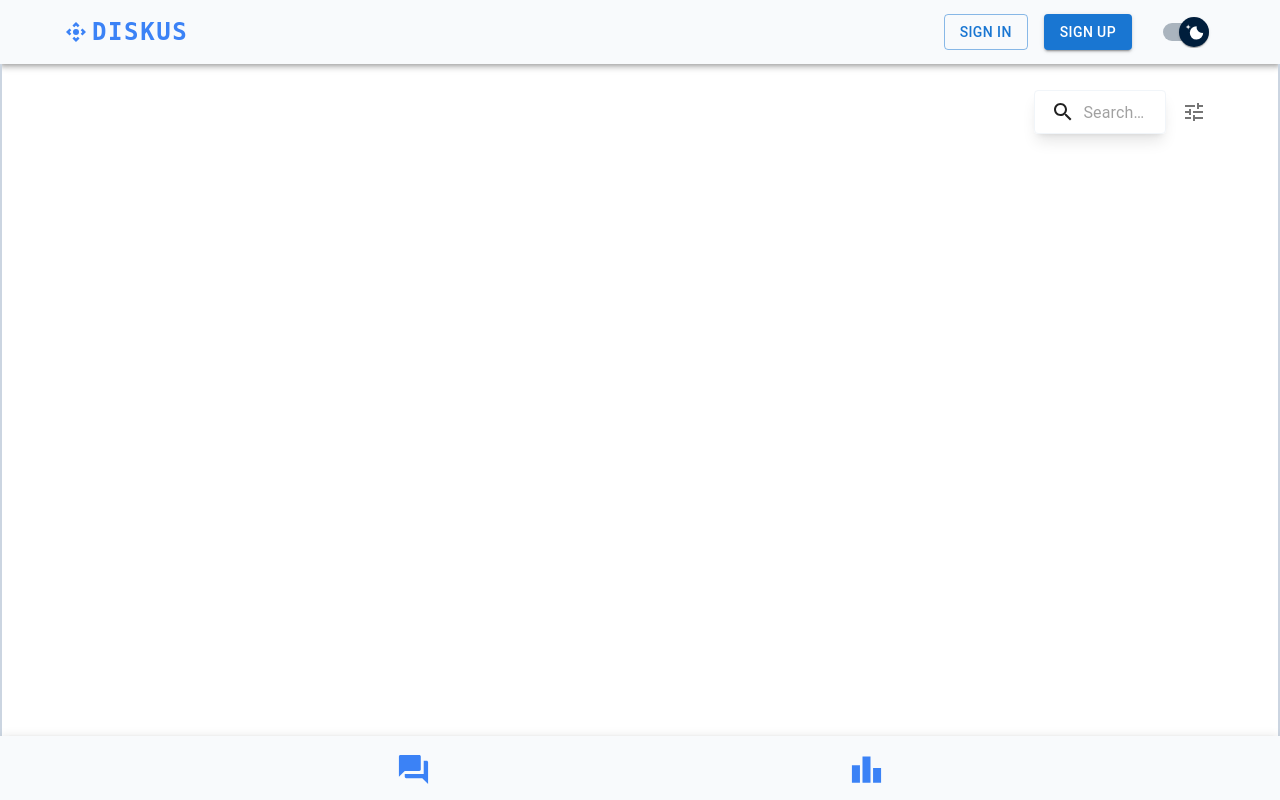
Test case: LeaderBoards spec › should display leaderboards page correctly
Step 1. Click the 4th link → point(867, 768), box [849,749,884,786]
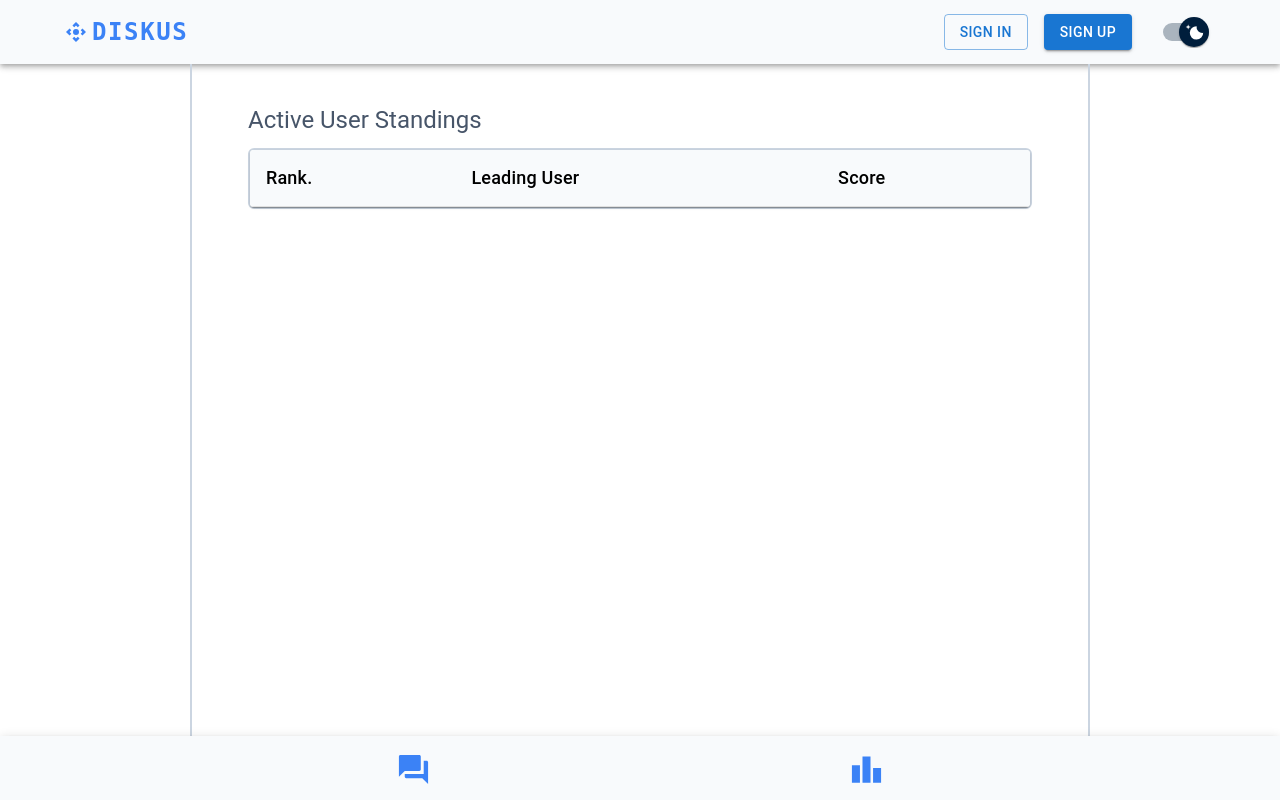
Check: the heading "Active User Standings" is shown, box [248,106,482,134]
Check: the table is shown, box [250,150,1030,207]
